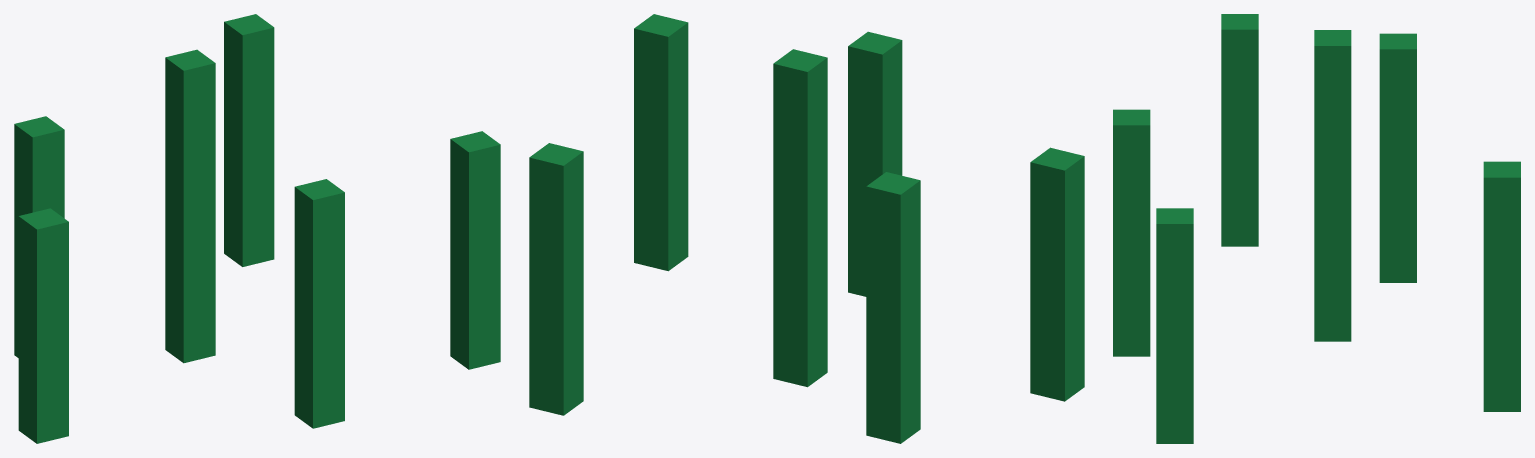
The model's file is medium_grass.fbx.
The picture shows the model from 3 angles, left to right: view 1: azimuth 30°, elevation 25°; view 2: azimuth 150°, elevation 25°; view 3: azimuth 270°, elevation 25°; orthographic projection. The views are drawn at different scales.
Visible parts, largest first — view 1: Stalk 1, Stalk 2, Stalk 5, Stalk 4, Stalk 6, Stalk 3; view 2: Stalk 1, Stalk 2, Stalk 3, Stalk 4, Stalk 6, Stalk 5; view 3: Stalk 1, Stalk 2, Stalk 3, Stalk 5, Stalk 4, Stalk 6.
Boxes of the visible parts, x1,y1,x2,y2 form: Stalk 1: [165, 49, 215, 363]; Stalk 2: [224, 14, 274, 266]; Stalk 5: [294, 179, 344, 428]; Stalk 4: [450, 131, 500, 369]; Stalk 6: [18, 208, 68, 443]; Stalk 3: [14, 116, 64, 357]; Stalk 1: [773, 49, 827, 387]; Stalk 2: [529, 143, 583, 415]; Stalk 3: [866, 172, 920, 443]; Stalk 4: [634, 14, 688, 271]; Stalk 6: [1030, 147, 1084, 401]; Stalk 5: [848, 31, 902, 296]; Stalk 1: [1314, 30, 1351, 341]; Stalk 2: [1483, 161, 1520, 411]; Stalk 3: [1379, 33, 1416, 282]; Stalk 5: [1113, 109, 1150, 356]; Stalk 4: [1156, 208, 1193, 443]; Stalk 6: [1221, 14, 1258, 246].
Bounding box in the file's own units: 135 × 87.54 × 109.
